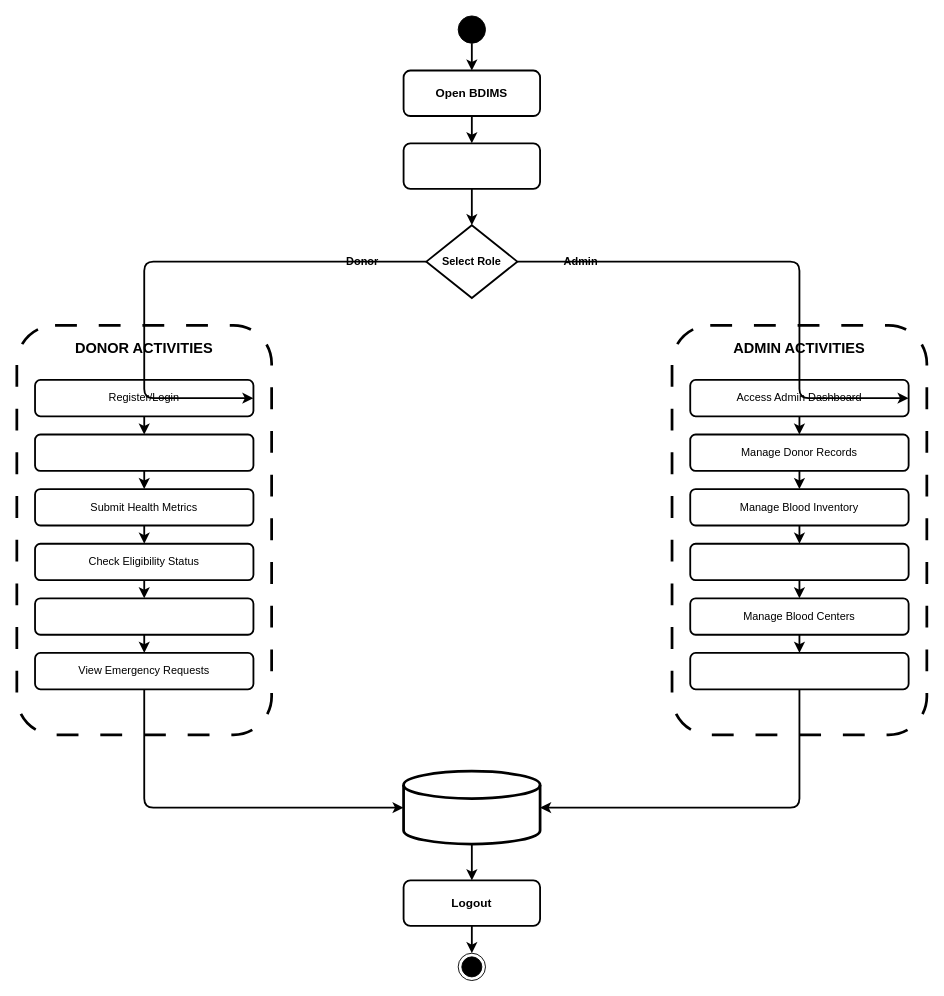
The diagram is 944 pixels wide and 996 high, and some of its shapes have lost their labels. The shapes that lost their labels are listed below. From the top down, each one's centre as x and y in pixels, then its label:
At [471,165]: "User Authentication".
At [144,452]: "Update Profile & Location".
At [799,561]: "Handle Emergency Requests".
At [144,616]: "View Donation History".
At [799,671]: "Generate Reports & Analytics".
At [471,807]: "PostgreSQL Database".
